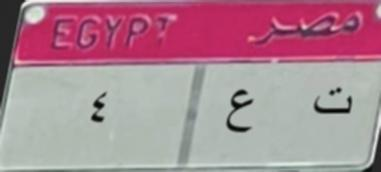4: (85, 88, 113, 130)
ain: (220, 82, 260, 141)
taa: (306, 79, 354, 126)
